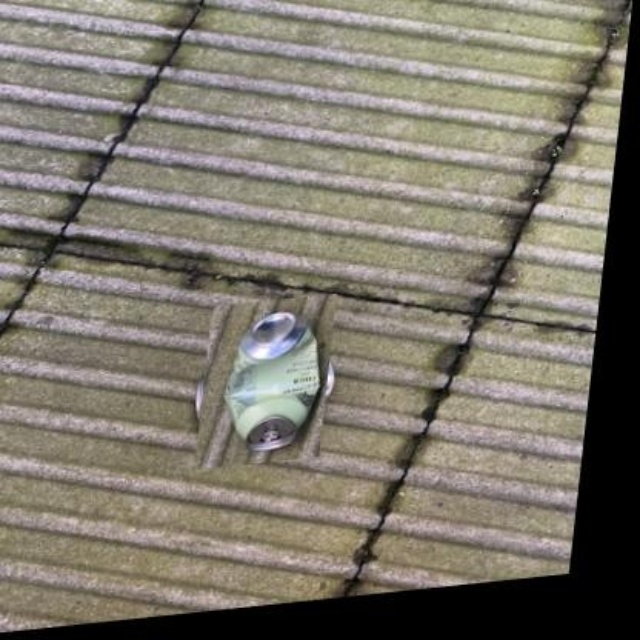trash: (225, 312, 318, 451)
